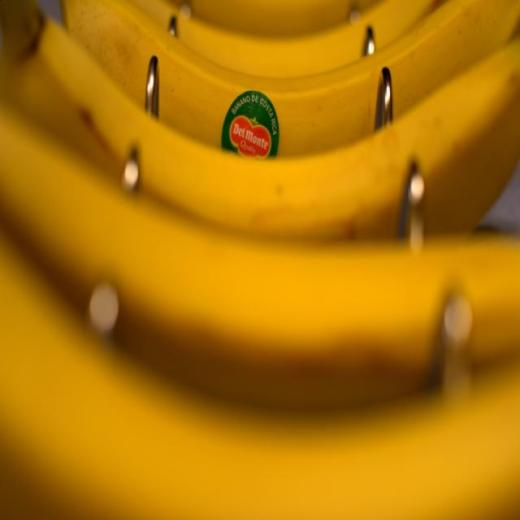Banana: (0, 0, 519, 519), (0, 0, 519, 240)
